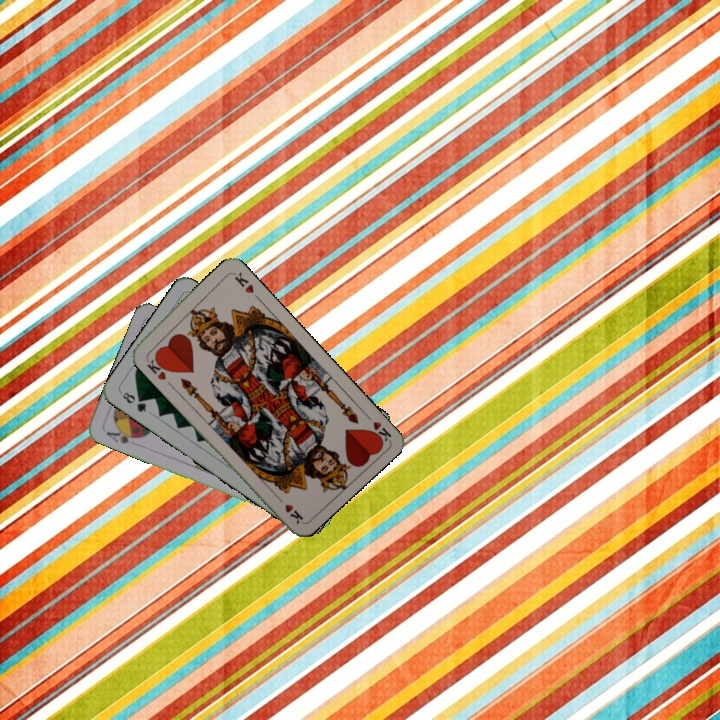G8: (118, 388, 149, 415)
HK: (360, 408, 394, 445), (142, 352, 172, 383)
SA: (102, 425, 142, 446)
